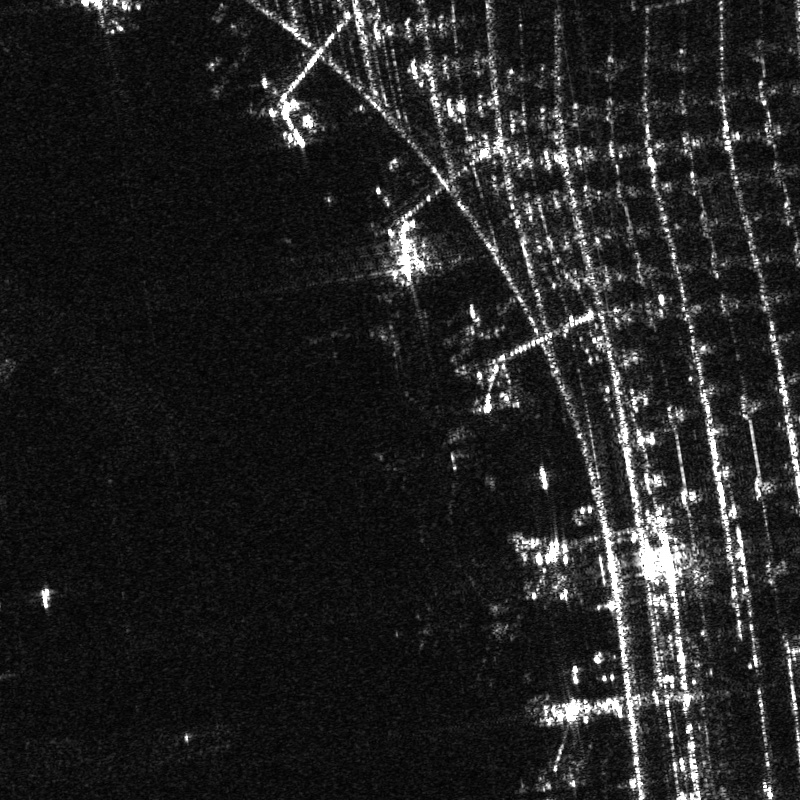Boeing787: (372, 392, 480, 523)
other: (416, 557, 524, 684), (313, 267, 419, 380)
